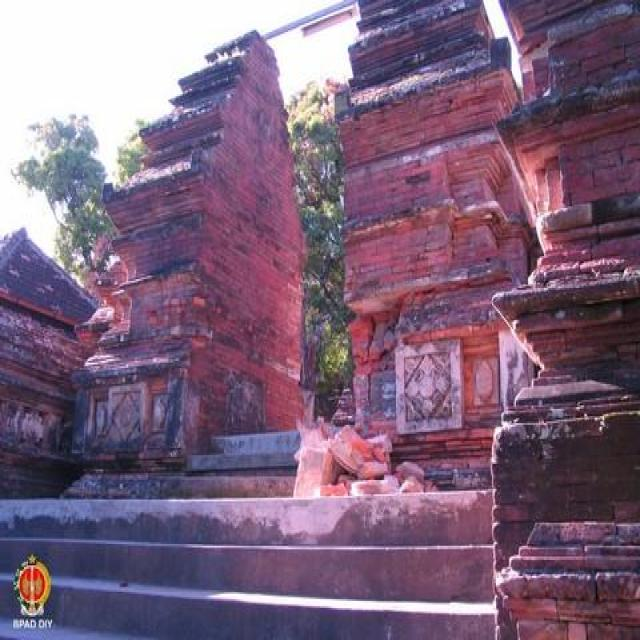damage: (280, 423, 448, 523)
